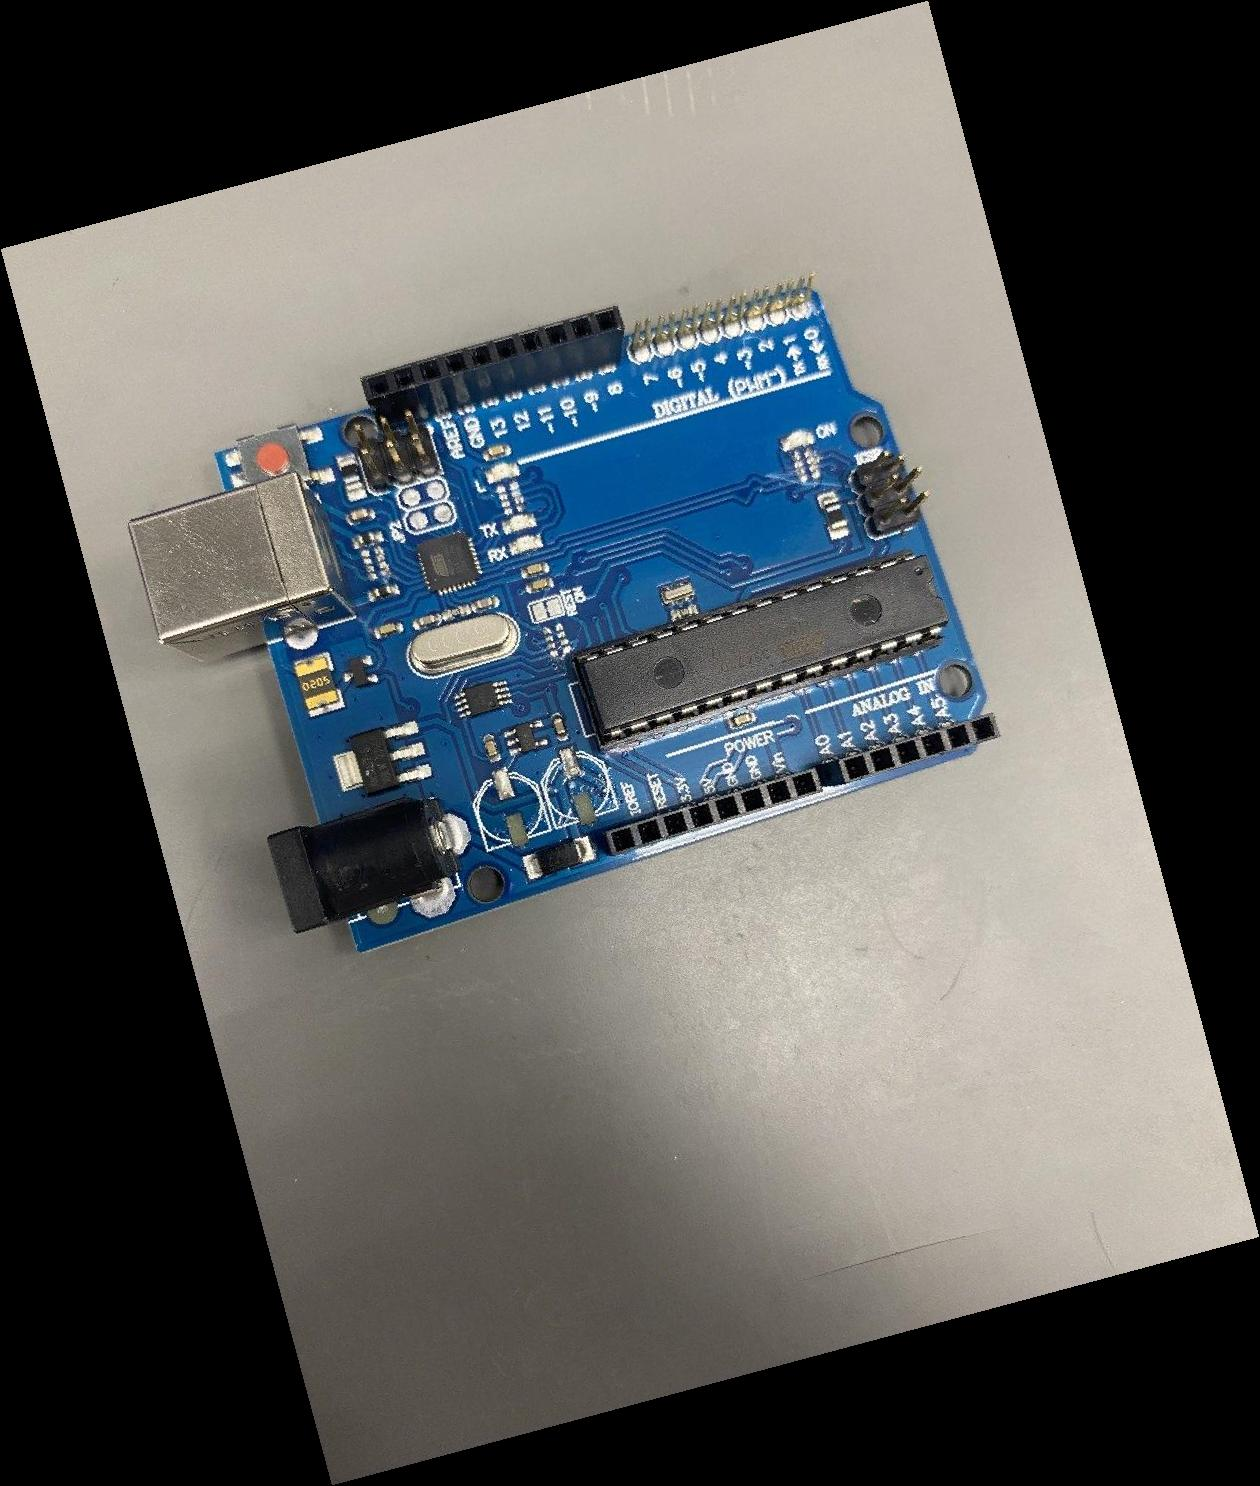ATmega328 chip: (571, 550, 951, 753)
Arduino board: (127, 273, 1002, 955)
USB: (126, 470, 353, 664)
pins: (362, 305, 626, 432), (597, 767, 822, 857), (816, 713, 1000, 787)
